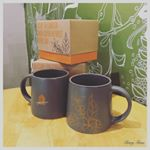cups: (64, 71, 133, 135), (18, 67, 67, 121)
